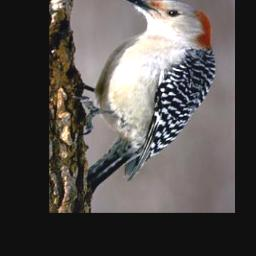Woodpecker: (74, 0, 217, 182)
